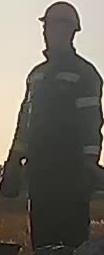gloves: (1, 146, 26, 200), (78, 147, 101, 190)
helmet: (37, 0, 82, 35)
vest: (24, 56, 104, 185)
